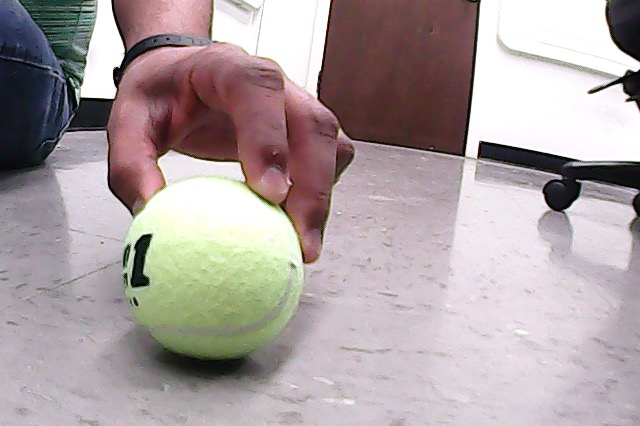ball: (122, 178, 304, 360)
